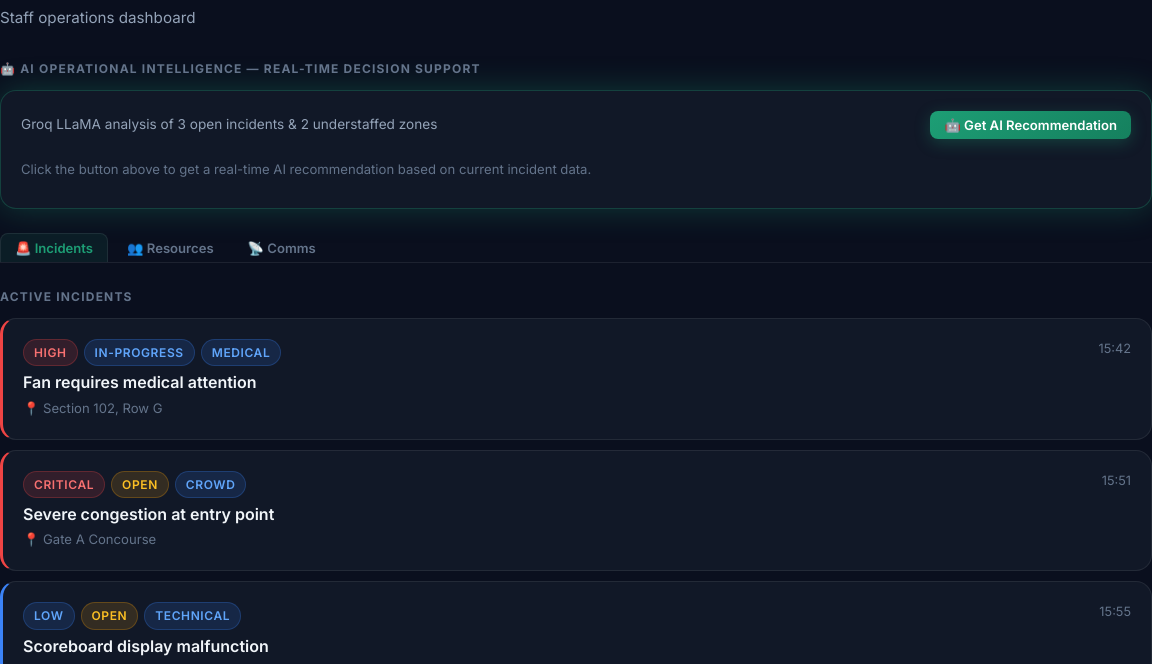
OpsCommand › renders resource zones on resources tab
Click the button with aria-label "resources tab" at [170, 247], box [112,233,229,262]
(page scrolled)
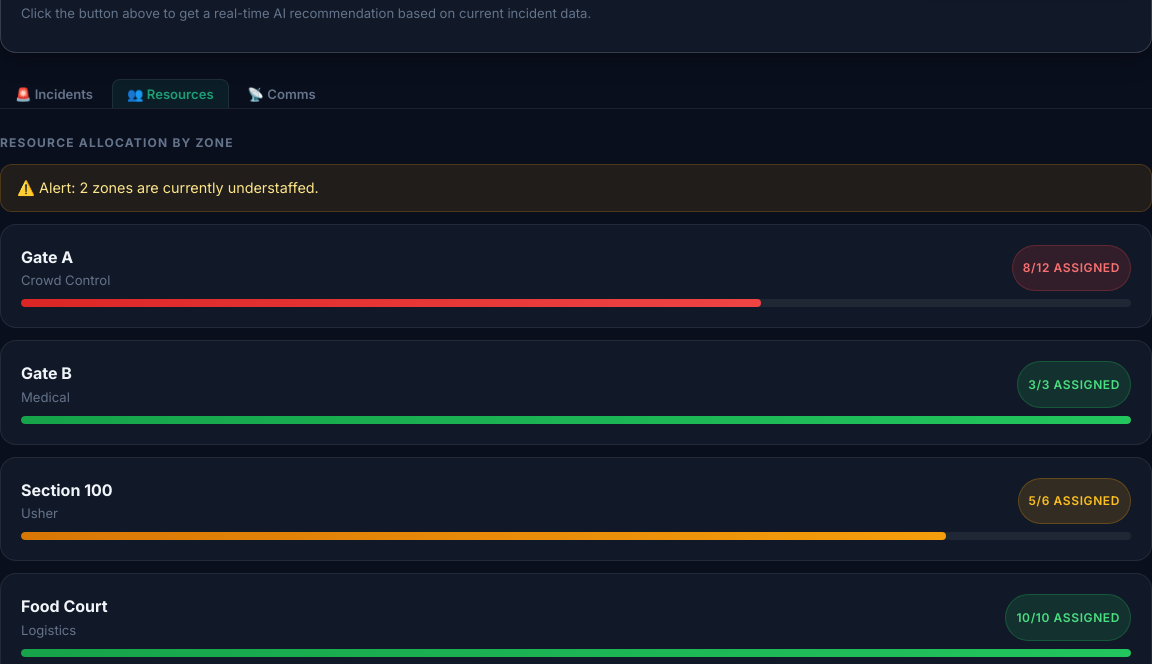
Check: the text "Gate A" is shown, box [21,246,73,266]
Check: the text "Food Court" is shown, box [21,594,108,620]
